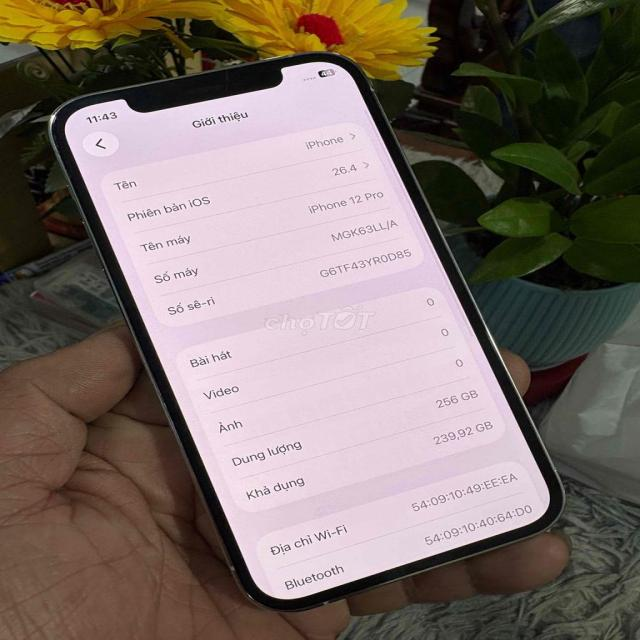gen_12_13: (40, 46, 565, 606)
